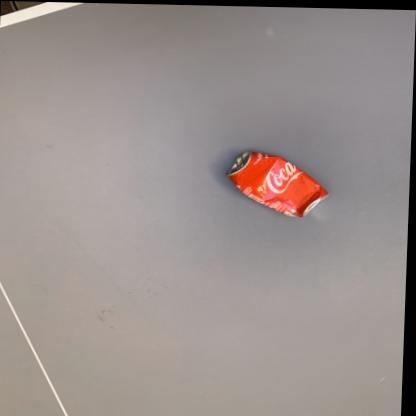trash: (226, 151, 327, 216)
